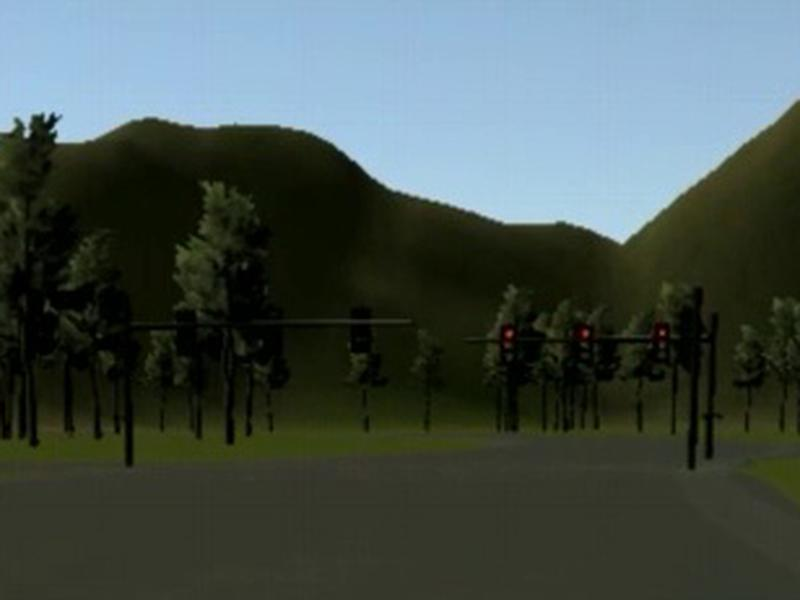Red: (575, 325, 592, 364), (500, 324, 515, 365), (654, 324, 669, 365)
